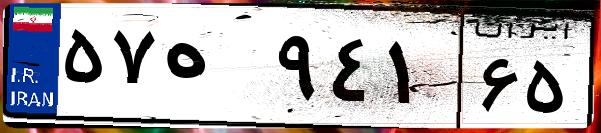1: (385, 28, 445, 110)
4: (330, 28, 385, 110)
5: (57, 26, 110, 100), (525, 38, 570, 115)
6: (475, 38, 525, 113)
7: (110, 28, 158, 98)
9: (270, 28, 330, 110)
ه: (158, 20, 270, 120)
